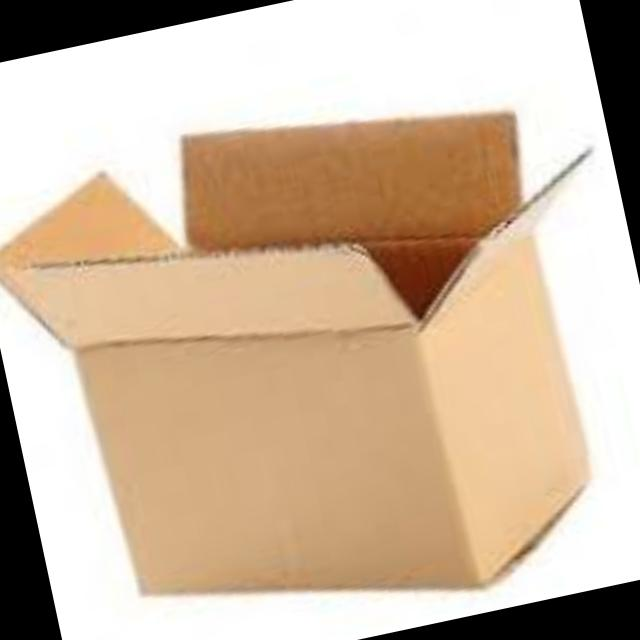cardboard paper: (0, 109, 581, 587)
